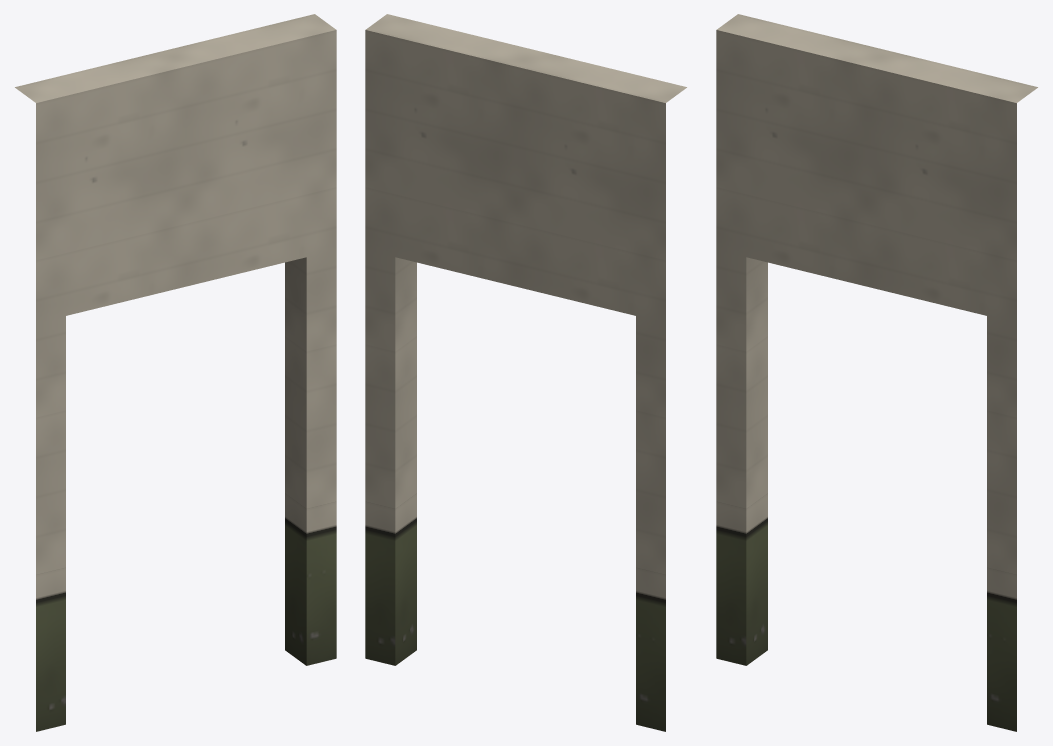
File: wall_bunker_wide.glb
3 views of the same model, side by side, from view 1: azimuth 30°, elevation 25°; view 2: azimuth 150°, elevation 25°; view 3: azimuth 330°, elevation 25° (orthographic).
Parts seen in each view (by area): view 1: wall_bunker_wide; view 2: wall_bunker_wide; view 3: wall_bunker_wide.
Boxes of the visible parts, <box> form: wall_bunker_wide: <box>15,14,336,731</box>; wall_bunker_wide: <box>365,14,686,731</box>; wall_bunker_wide: <box>716,14,1037,731</box>.
Bounding box in the file's own units: 2 × 4 × 0.25.
1 material, 1 textured.
